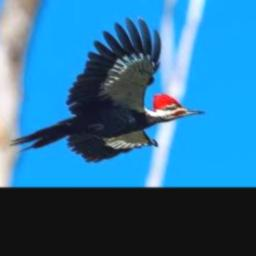Woodpecker: (9, 16, 204, 162)
